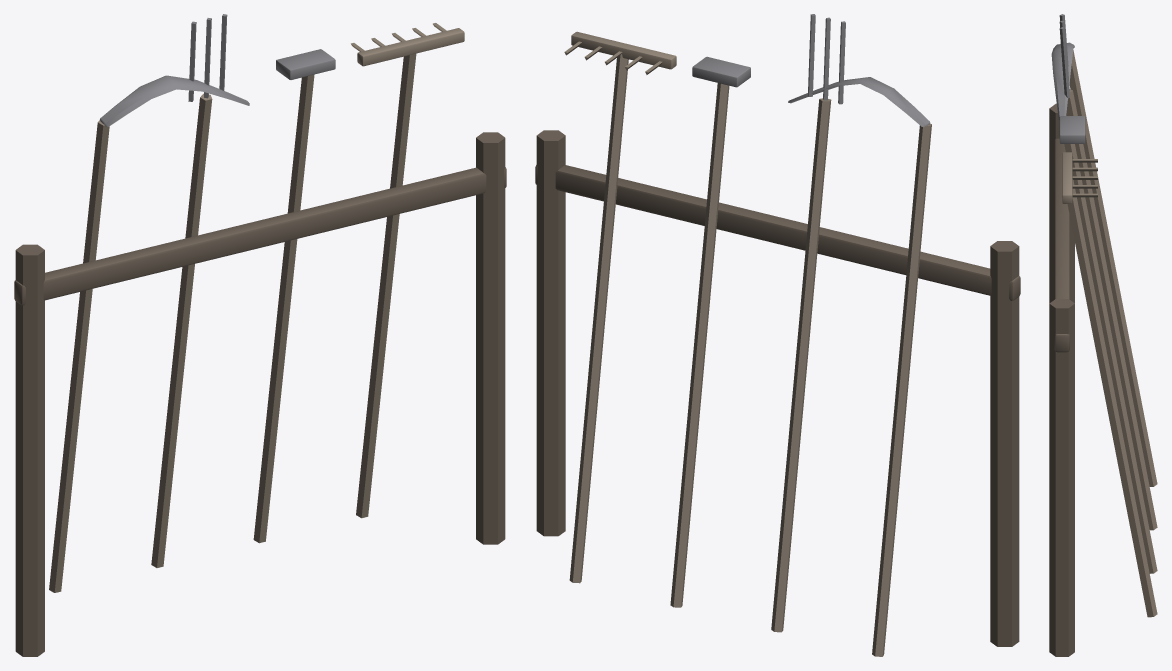
The model's file is tool_rack.gltf.
3 views of the same model, side by side, from view 1: azimuth 30°, elevation 25°; view 2: azimuth 150°, elevation 25°; view 3: azimuth 270°, elevation 25° (orthographic). The views are drawn at different scales.
Parts seen in each view (by area): view 1: Body; view 2: Body; view 3: Body.
Part boxes in pixels (left/top/right/bottom): Body: left=14, top=14, right=506, bottom=656; Body: left=535, top=14, right=1020, bottom=656; Body: left=1049, top=14, right=1157, bottom=656.
Size of the model in its own units: 1.9 by 2.2 by 0.4217.
